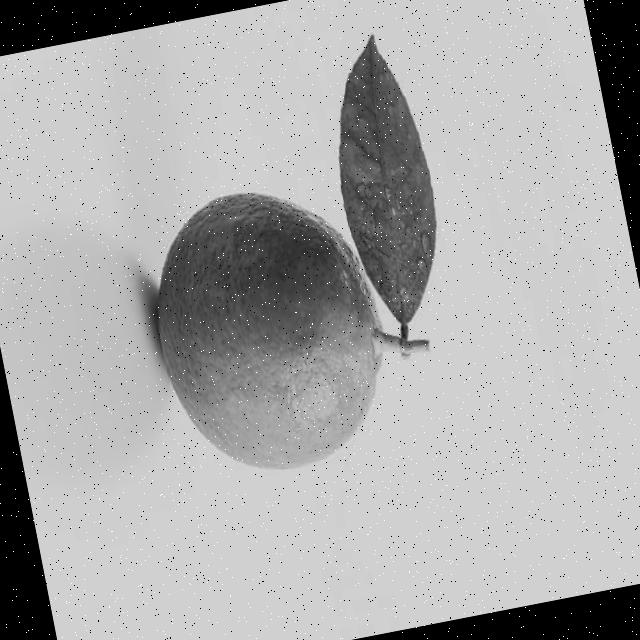Lemon: (132, 168, 406, 494)
